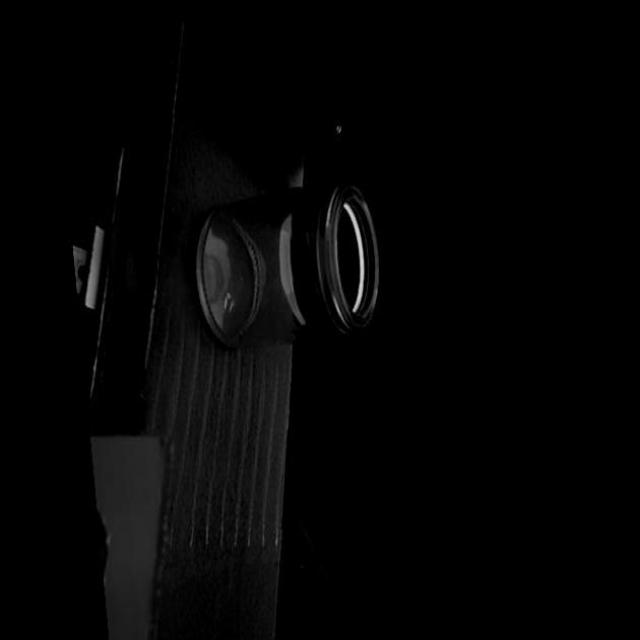defect: (290, 234, 295, 250)
glass: (188, 172, 386, 358)
